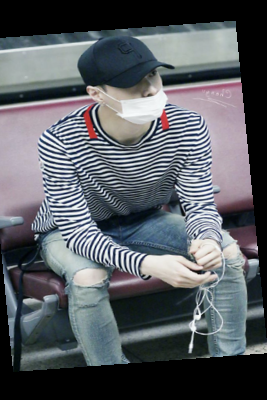mask_weared_incorrect: (66, 32, 182, 127)
